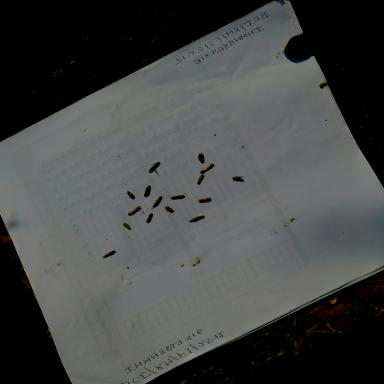pbw: (181, 210, 210, 230), (143, 193, 168, 215), (140, 156, 165, 178), (187, 149, 210, 170), (167, 187, 191, 207), (97, 244, 120, 262), (195, 160, 218, 176), (160, 202, 180, 220), (137, 183, 156, 201), (122, 202, 143, 218), (122, 186, 140, 204), (228, 170, 248, 186), (194, 192, 214, 208), (116, 219, 134, 236), (191, 170, 208, 186), (139, 211, 156, 225)
